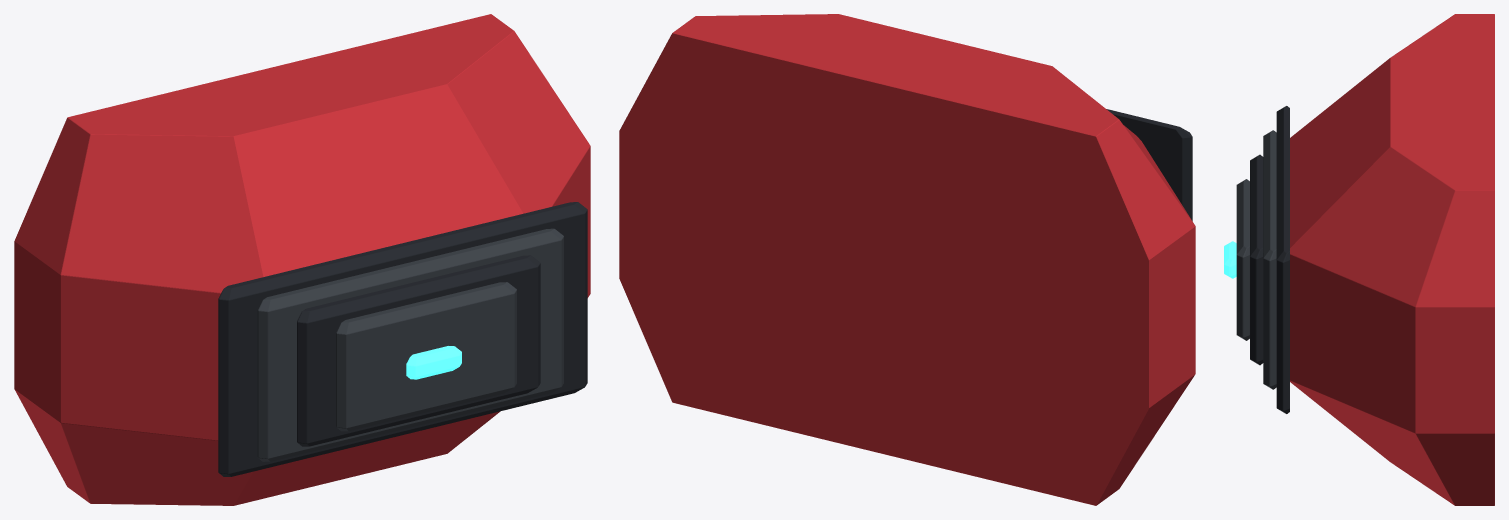
Rendered from HandBack_Set09_Mantis.fbx.
3 views of the same model, side by side, from view 1: azimuth 30°, elevation 25°; view 2: azimuth 150°, elevation 25°; view 3: azimuth 270°, elevation 25° (orthographic). The views are drawn at different scales.
Parts seen in each view (by area): view 1: HandBack_Set09_Mantis; view 2: HandBack_Set09_Mantis; view 3: HandBack_Set09_Mantis.
Part boxes in pixels (x1=…): HandBack_Set09_Mantis: x1=14, y1=14, x2=590, y2=505; HandBack_Set09_Mantis: x1=619, y1=14, x2=1195, y2=505; HandBack_Set09_Mantis: x1=1224, y1=14, x2=1494, y2=505.
Size of the model in its own units: 0.3 by 0.2 by 0.1555.
